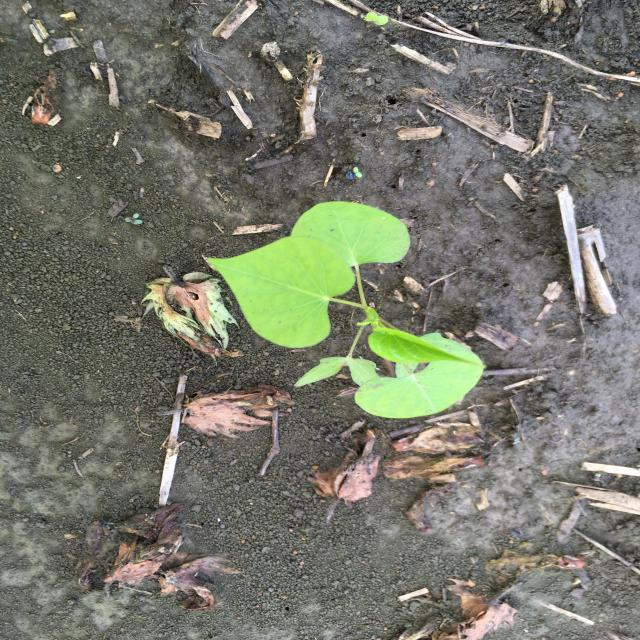MorningGlory: (200, 198, 488, 421)
